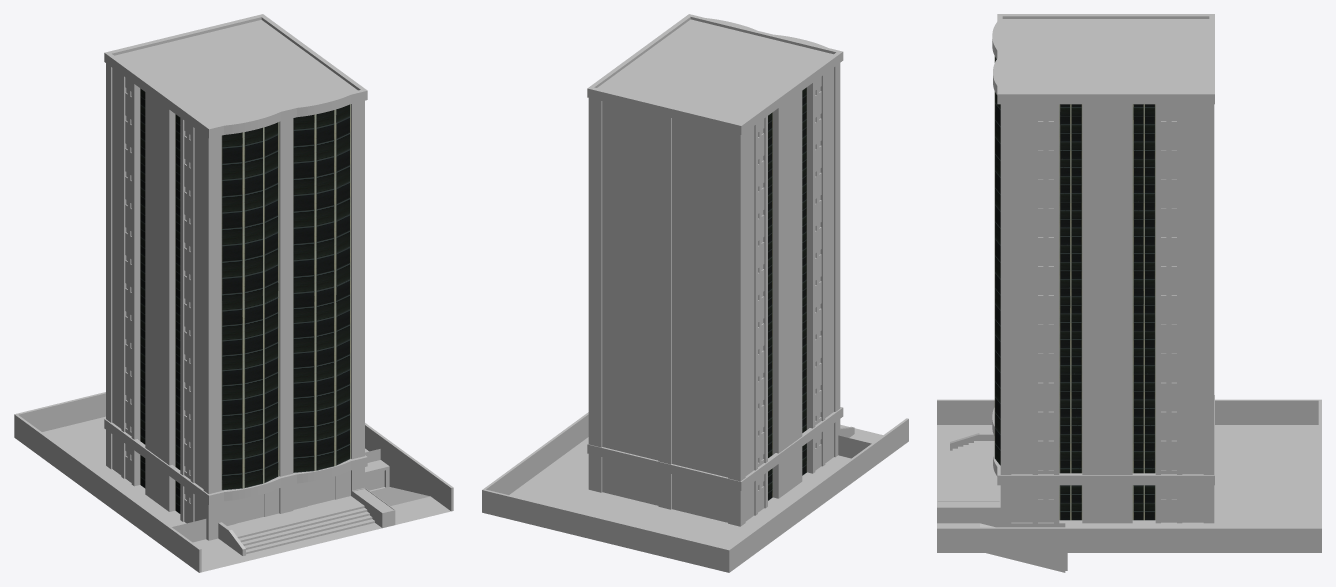
3 views of the same model, side by side, from view 1: azimuth 30°, elevation 25°; view 2: azimuth 150°, elevation 25°; view 3: azimuth 270°, elevation 25° (orthographic). The views are drawn at different scales.
Visible parts, largest first — view 1: BC-066; view 2: BC-066; view 3: BC-066.
Part boxes in pixels (left/top/right/bottom): BC-066: left=14, top=14, right=453, bottom=572; BC-066: left=482, top=14, right=908, bottom=572; BC-066: left=937, top=14, right=1321, bottom=572.
Size of what is drawn, in the model's own units: 28.6 by 46.54 by 36.
